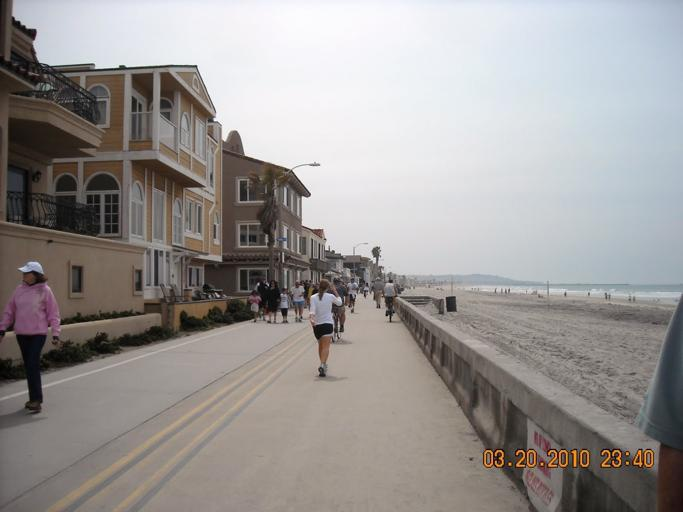non-vehicle: (332, 305, 343, 341), (387, 298, 394, 321)
